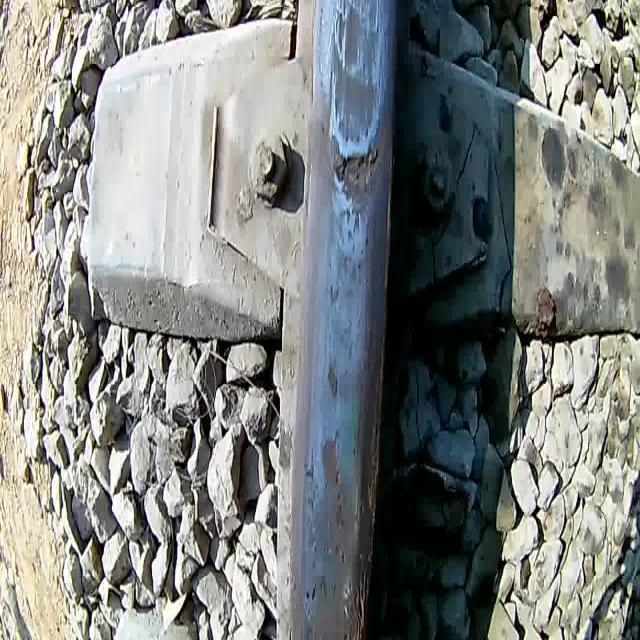Cracks: (342, 558, 373, 640)
Spallings: (331, 142, 382, 192)
Squats: (324, 0, 392, 243), (302, 427, 354, 559), (302, 570, 352, 640), (325, 249, 366, 314), (323, 353, 341, 406)
